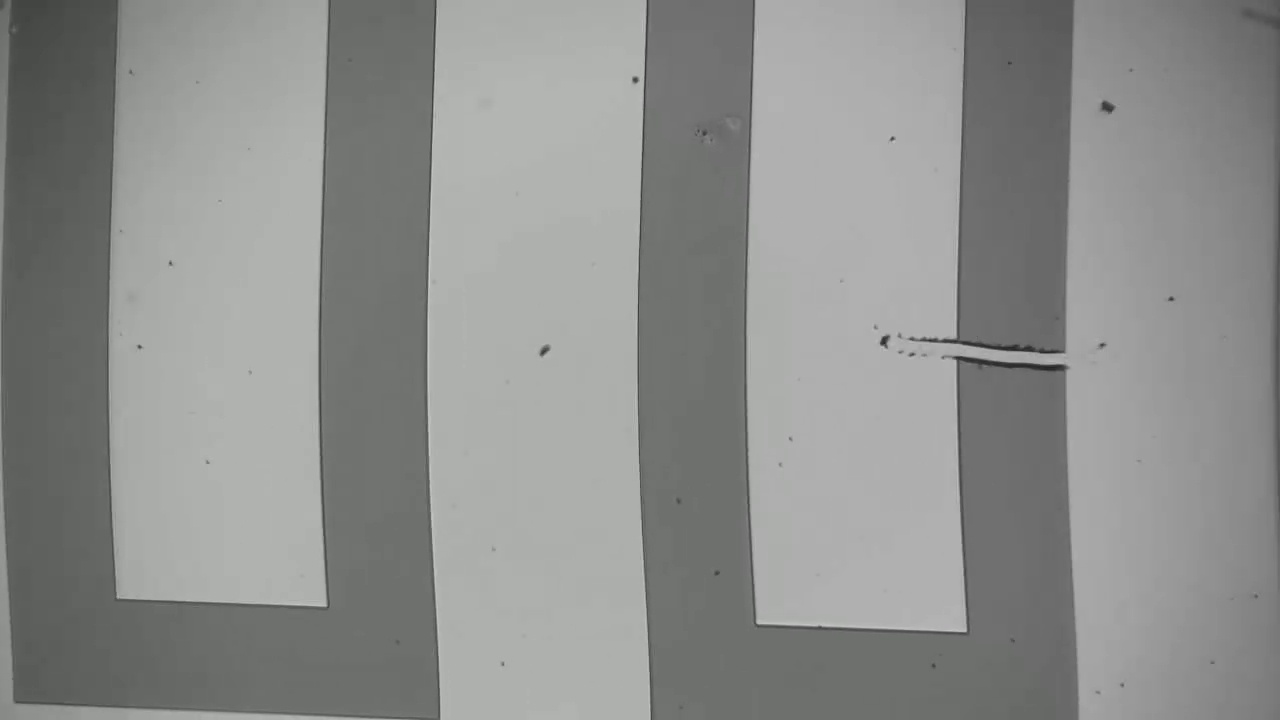Short_circuit: (909, 319, 1100, 397)
